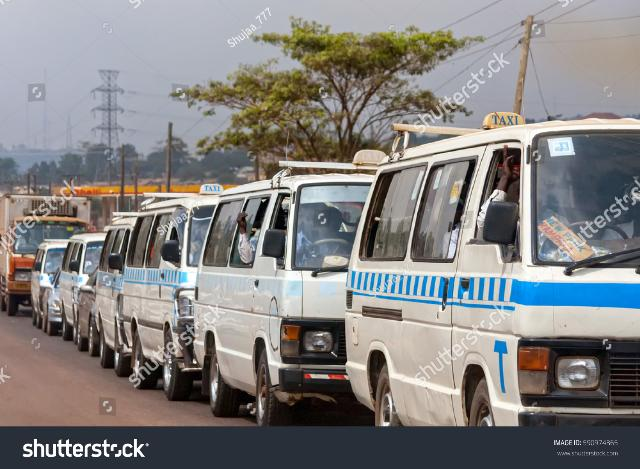truck: (1, 187, 93, 240)
van: (344, 109, 637, 425), (195, 162, 338, 423), (123, 193, 190, 401), (56, 231, 89, 343), (27, 239, 51, 323)
